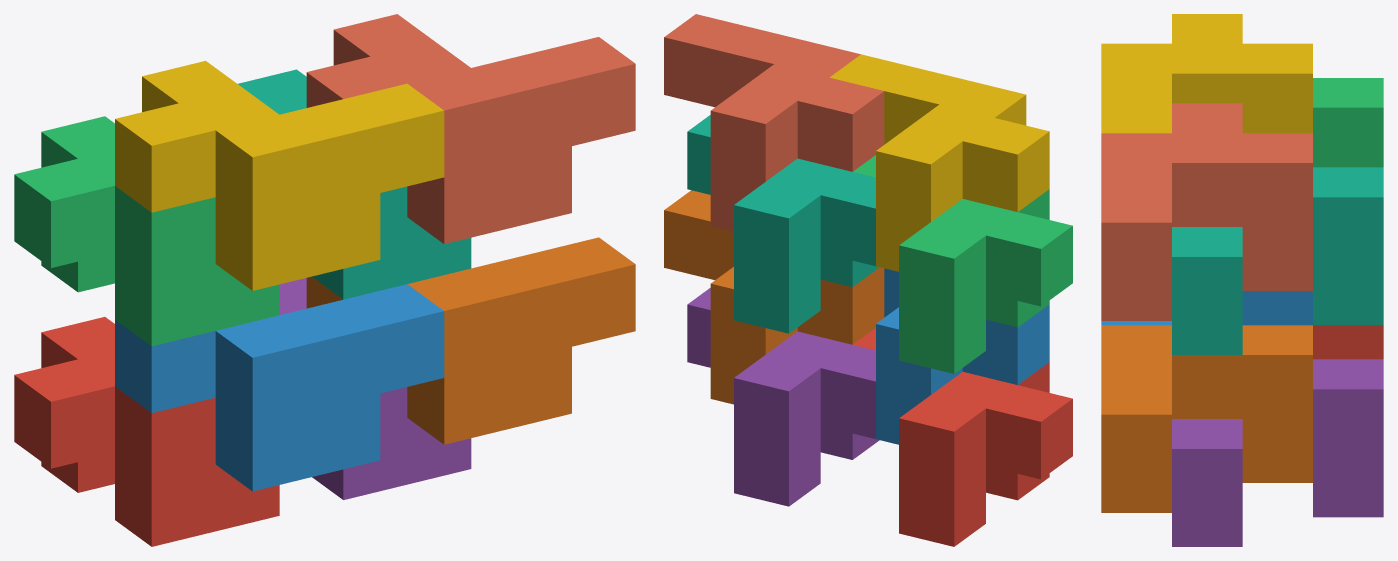
File: tiling.obj
3 renders of one model, left to right at view 1: azimuth 30°, elevation 25°; view 2: azimuth 150°, elevation 25°; view 3: azimuth 270°, elevation 25°, orthographic. The views are drawn at different scales.
Visible parts, largest first — view 1: copy_1_domain_4, copy_1_domain_2, copy_1_domain_8, copy_1_domain_6, copy_1_domain_3, copy_1_domain_1, copy_1_domain_7, copy_1_domain_5; view 2: copy_1_domain_8, copy_1_domain_4, copy_1_domain_1, copy_1_domain_3, copy_1_domain_7, copy_1_domain_5, copy_1_domain_6, copy_1_domain_2; view 3: copy_1_domain_8, copy_1_domain_6, copy_1_domain_5, copy_1_domain_7, copy_1_domain_4, copy_1_domain_3, copy_1_domain_2, copy_1_domain_1.
Boxes of the visible parts, left/top/right/bottom form: copy_1_domain_4: left=115, top=60, right=444, bottom=290; copy_1_domain_2: left=115, top=284, right=444, bottom=491; copy_1_domain_8: left=306, top=14, right=635, bottom=244; copy_1_domain_6: left=306, top=237, right=635, bottom=444; copy_1_domain_3: left=14, top=116, right=279, bottom=346; copy_1_domain_1: left=14, top=317, right=279, bottom=546; copy_1_domain_7: left=238, top=69, right=471, bottom=299; copy_1_domain_5: left=279, top=278, right=471, bottom=499; copy_1_domain_8: left=664, top=14, right=884, bottom=231; copy_1_domain_4: left=829, top=54, right=1049, bottom=271; copy_1_domain_1: left=853, top=328, right=1072, bottom=546; copy_1_domain_3: left=853, top=155, right=1072, bottom=373; copy_1_domain_7: left=687, top=115, right=879, bottom=333; copy_1_domain_5: left=687, top=288, right=879, bottom=506; copy_1_domain_6: left=664, top=190, right=884, bottom=404; copy_1_domain_2: left=876, top=268, right=1049, bottom=444; copy_1_domain_8: left=1101, top=103, right=1312, bottom=320; copy_1_domain_6: left=1101, top=325, right=1312, bottom=512; copy_1_domain_5: left=1172, top=359, right=1383, bottom=546; copy_1_domain_7: left=1172, top=167, right=1383, bottom=354; copy_1_domain_4: left=1101, top=14, right=1312, bottom=133; copy_1_domain_3: left=1313, top=78, right=1383, bottom=167; copy_1_domain_2: left=1101, top=291, right=1312, bottom=325; copy_1_domain_1: left=1313, top=325, right=1383, bottom=359.
Size of the model in its own units: 8 by 6 by 4.
